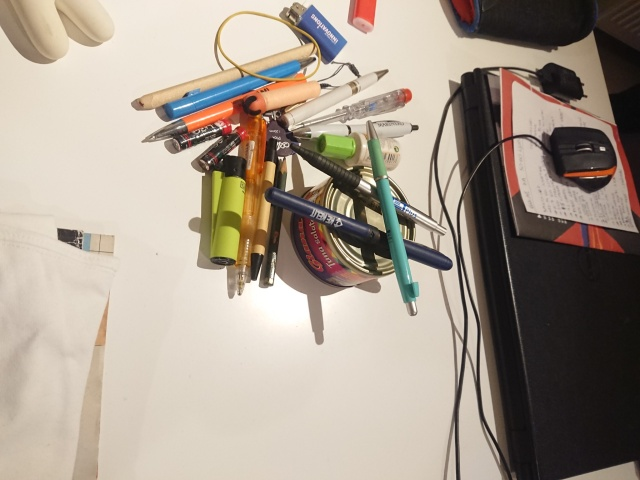Giana Tuna Salad Mexico 185g: (286, 163, 419, 290)
